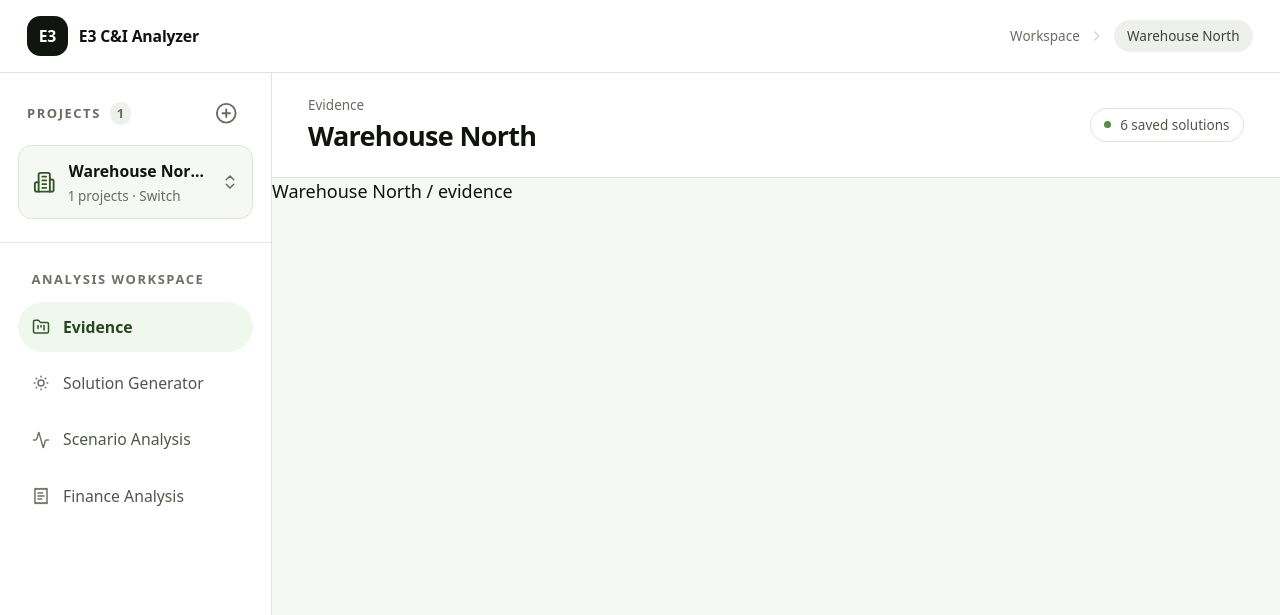
Test: C&I application navigation › clears the active workspace and its stored selection when the last project is deleted
Expected: the heading "Warehouse North" is shown, [308, 118, 536, 154]
Click the heading named "Switch project".
click(136, 182)  # box [18, 145, 253, 219]
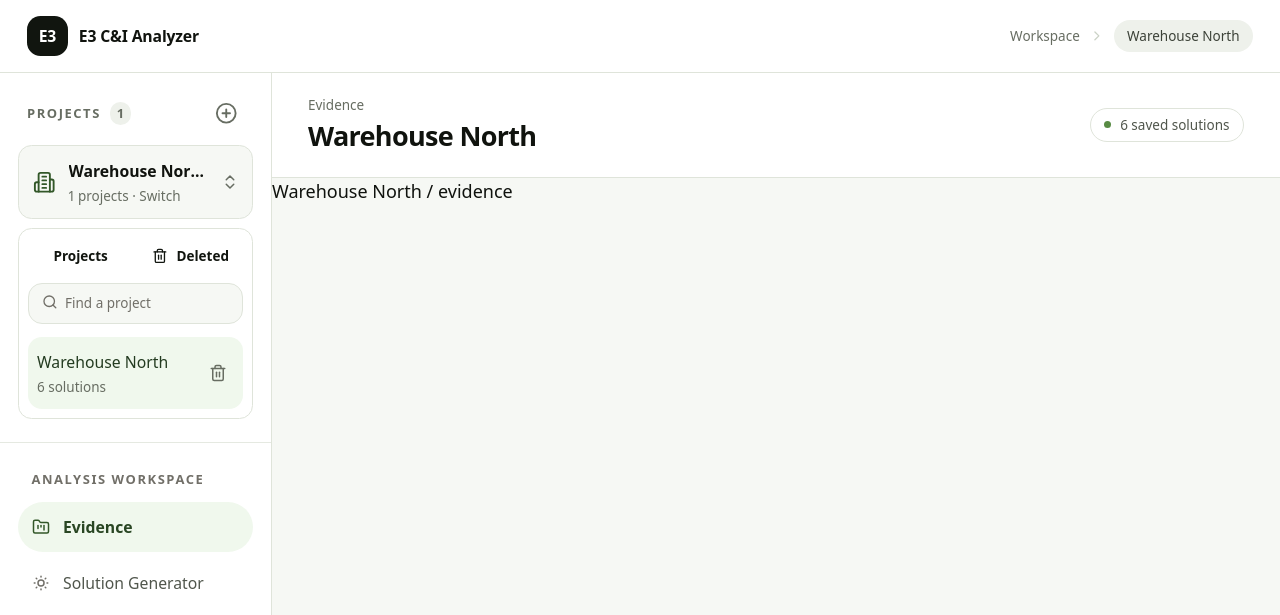
Click the button named "Delete project Warehouse North".
click(218, 373)  # box [198, 353, 238, 393]
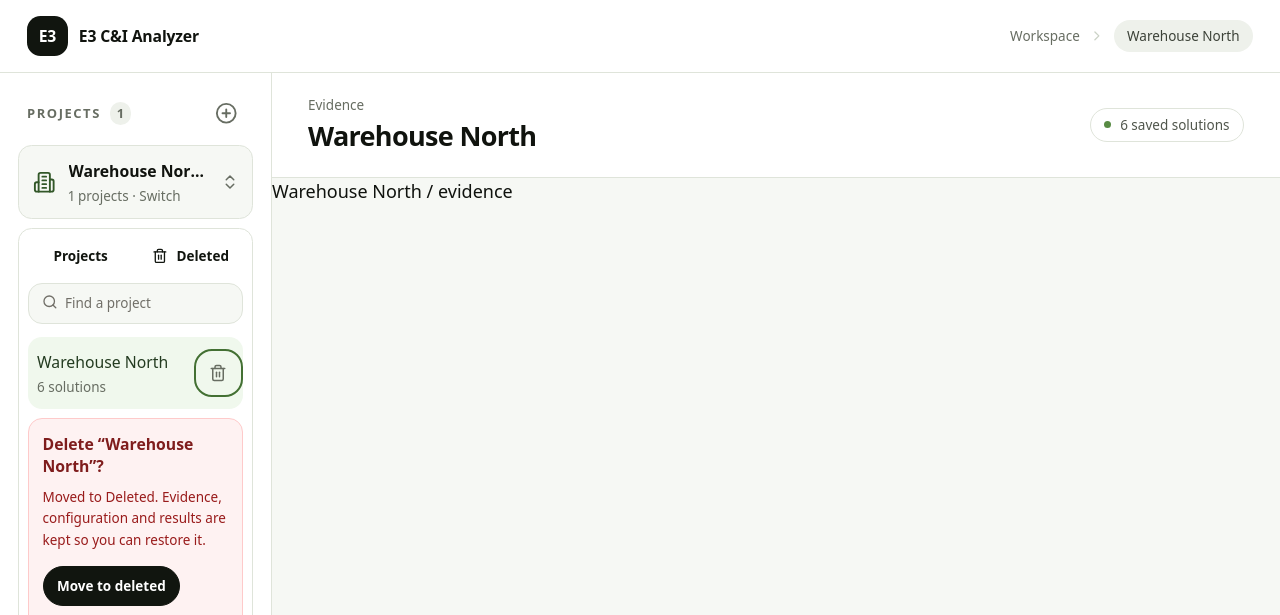
Click the button "Move to deleted".
click(111, 586)  # box [42, 566, 180, 606]
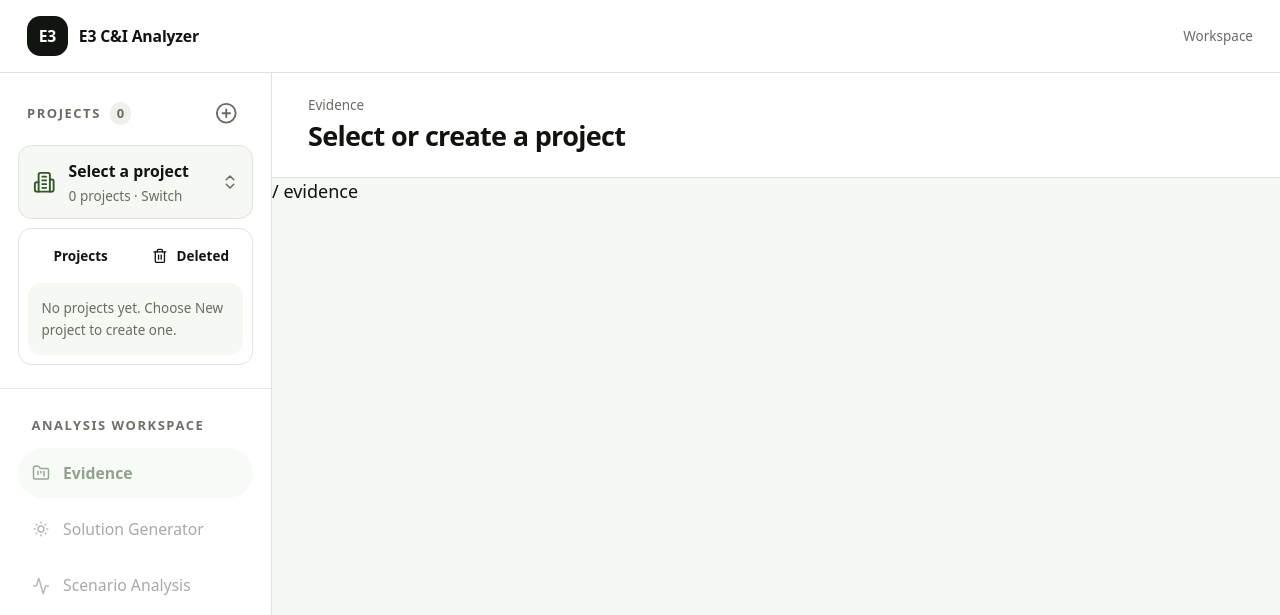
Now the heading "Select or create a project" is shown, box [308, 118, 625, 154]
Now the button "Solution Generator" is disabled, box [18, 505, 253, 554]
